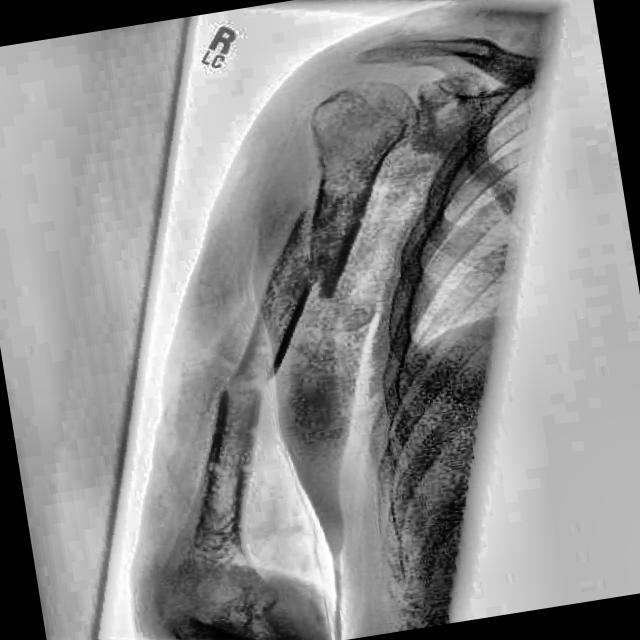humerus: (256, 180, 388, 326), (187, 342, 319, 452)
